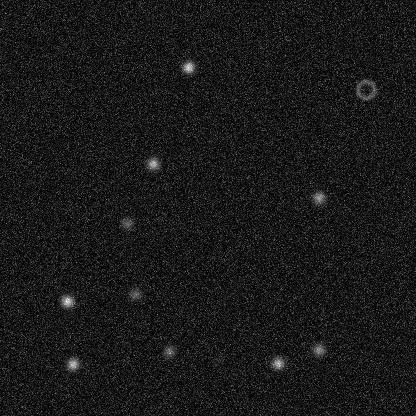Ring: (353, 77, 377, 101)
Spot: (161, 343, 177, 359), (119, 215, 135, 231), (210, 352, 226, 368), (180, 59, 196, 75), (310, 189, 326, 205), (127, 286, 143, 302), (64, 355, 80, 371), (144, 155, 160, 171), (269, 355, 285, 371), (310, 341, 326, 357), (59, 293, 75, 309)
